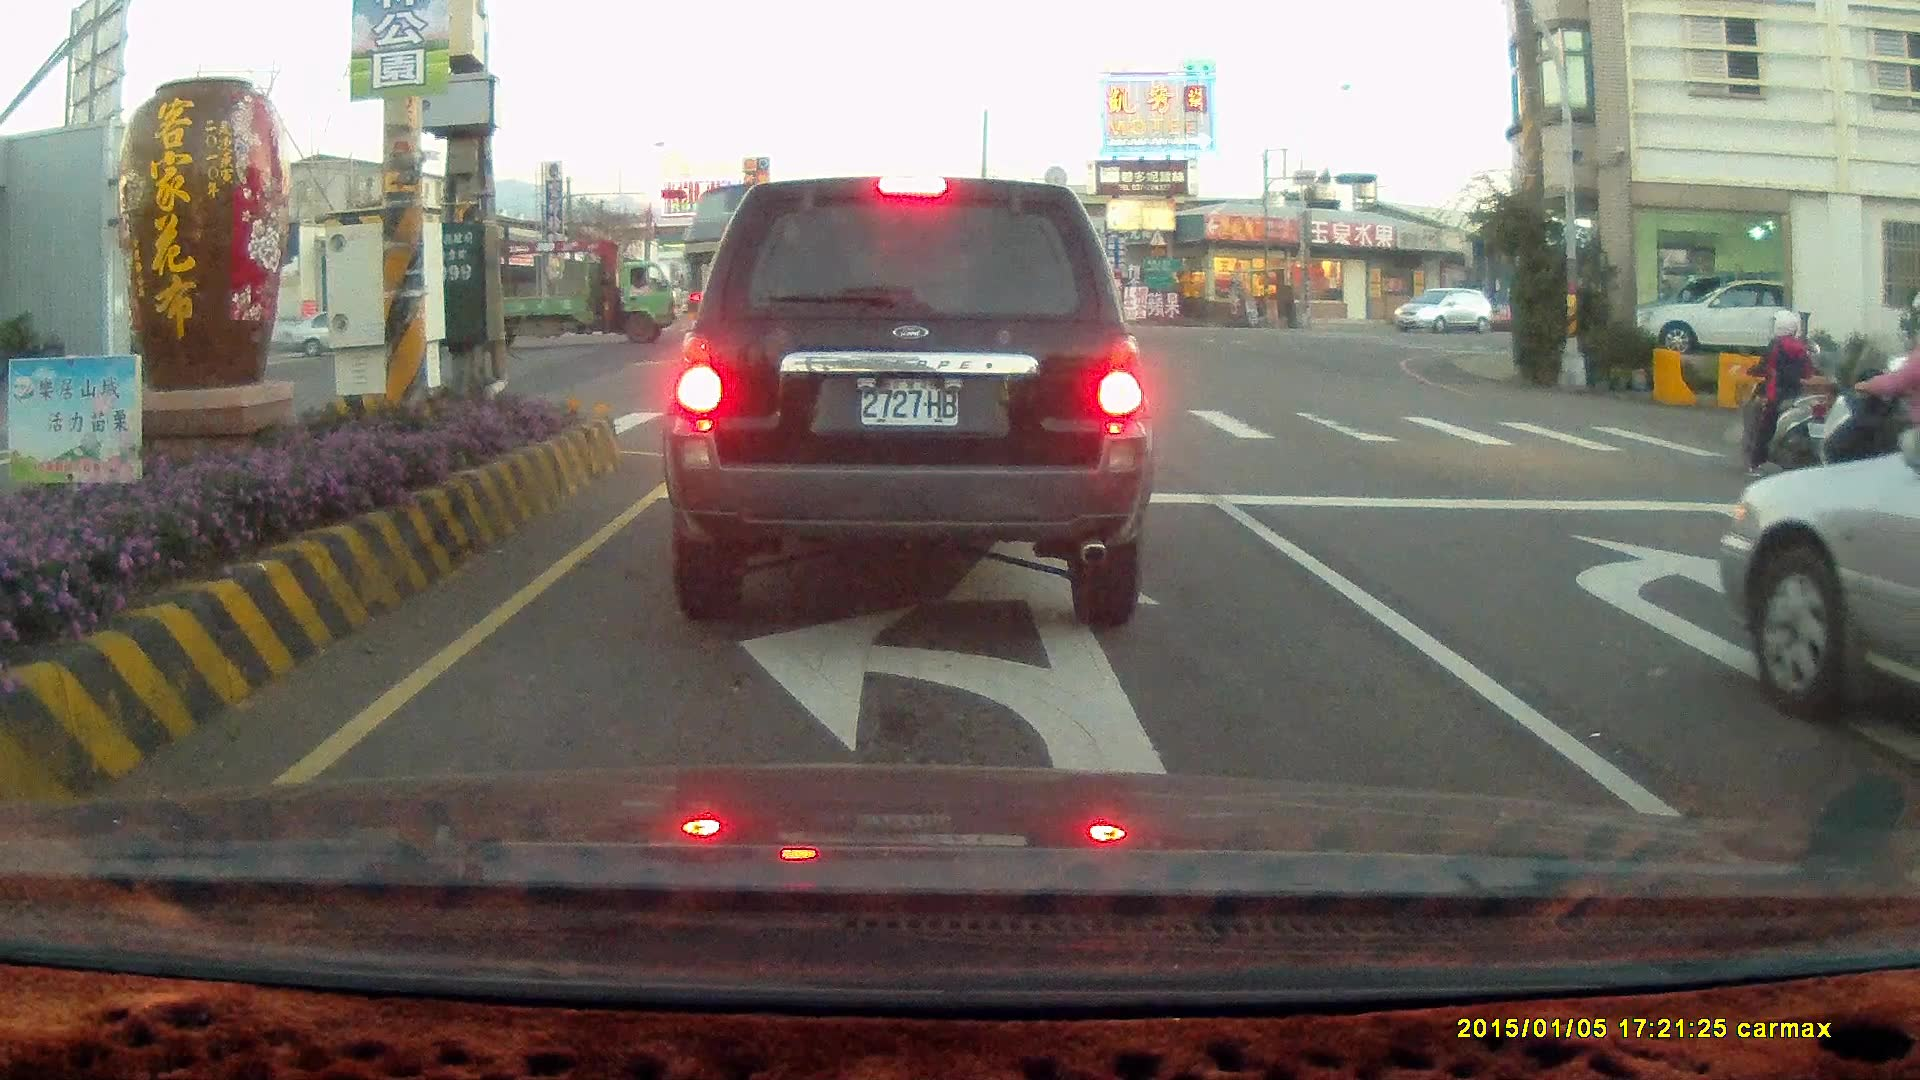rider: (1821, 294, 1919, 509), (1735, 306, 1832, 480)
vehicle: (660, 173, 1155, 630), (1717, 419, 1920, 745), (1723, 435, 1920, 719), (500, 254, 680, 347), (1628, 275, 1836, 356), (1642, 275, 1784, 356), (1896, 493, 1920, 836), (1393, 288, 1495, 338)
